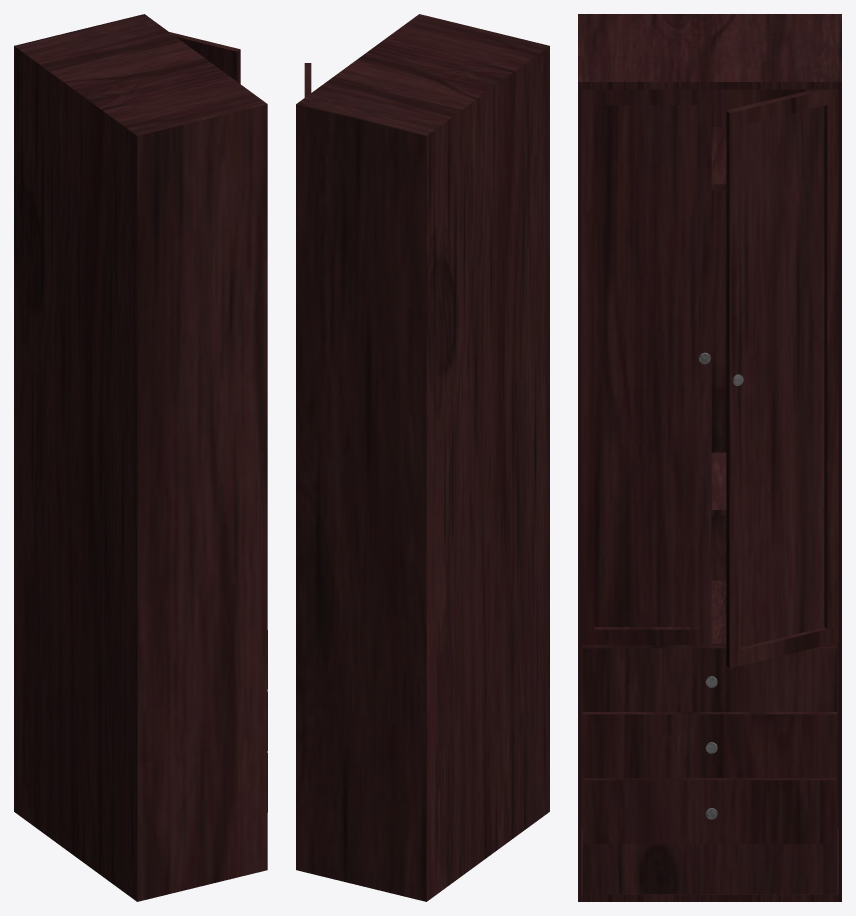
Rendered from wardrobe.fbx.
3 views of the same model, side by side, from view 1: azimuth 30°, elevation 25°; view 2: azimuth 150°, elevation 25°; view 3: azimuth 270°, elevation 25° (orthographic). The views are drawn at different scales.
Visible parts, largest first — view 1: uploads_files_915043_wardrobe; view 2: uploads_files_915043_wardrobe; view 3: uploads_files_915043_wardrobe, uploads_files_915043_wardrobe.001.
Part boxes in pixels (box(x1,y1,x2,y2)): uploads_files_915043_wardrobe: box(14, 14, 267, 901); uploads_files_915043_wardrobe: box(296, 14, 549, 901); uploads_files_915043_wardrobe: box(578, 14, 841, 901); uploads_files_915043_wardrobe.001: box(699, 352, 743, 819).
Size of the model in its own units: 1010 by 4153 by 1211.
2 materials, 2 textured.
